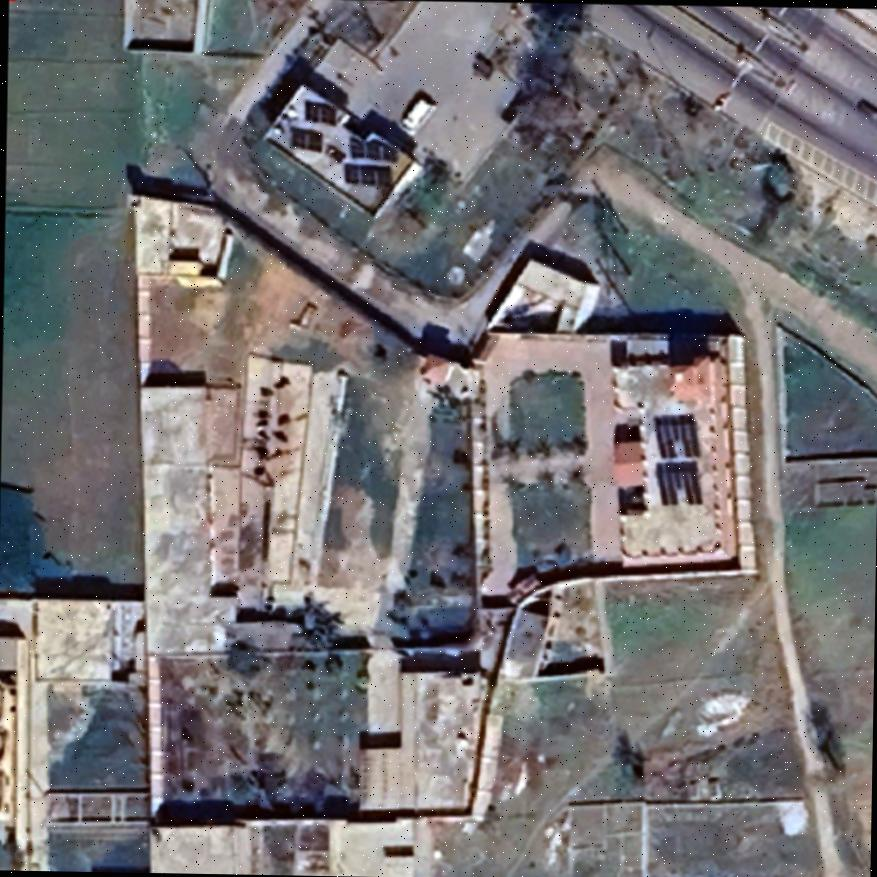Solarpanel: (648, 408, 708, 509), (338, 133, 398, 190), (650, 456, 706, 510), (344, 133, 400, 163), (340, 158, 392, 187), (300, 95, 339, 127), (286, 121, 324, 152)
